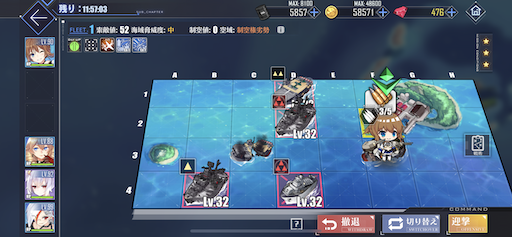lv1: (180, 159, 228, 207)
lv3: (272, 157, 323, 208), (272, 94, 317, 138)
